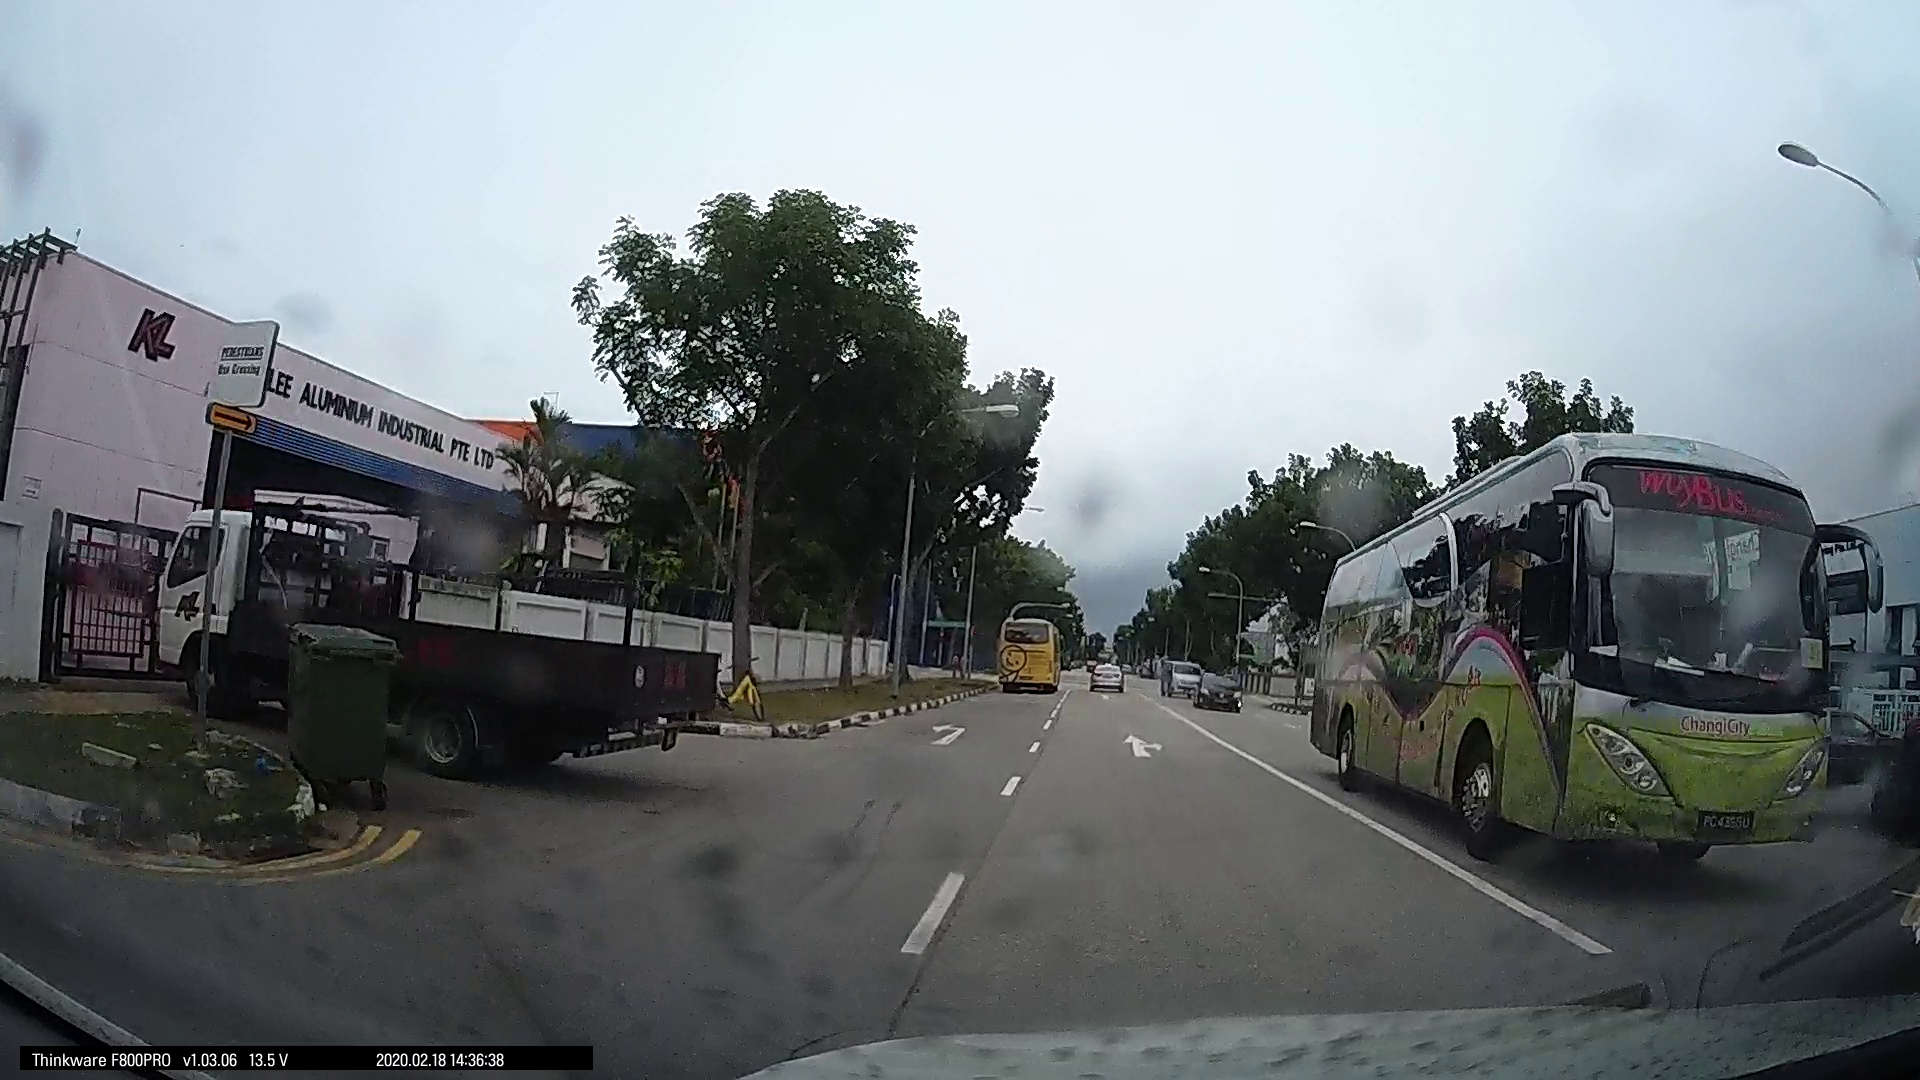Light Vehicle: (1713, 691, 1917, 920), (992, 640, 1141, 782), (1460, 651, 1625, 724), (1228, 647, 1367, 713), (521, 609, 633, 669), (789, 640, 885, 684), (1753, 675, 1828, 721)
Motorcycle: (886, 647, 928, 729)
